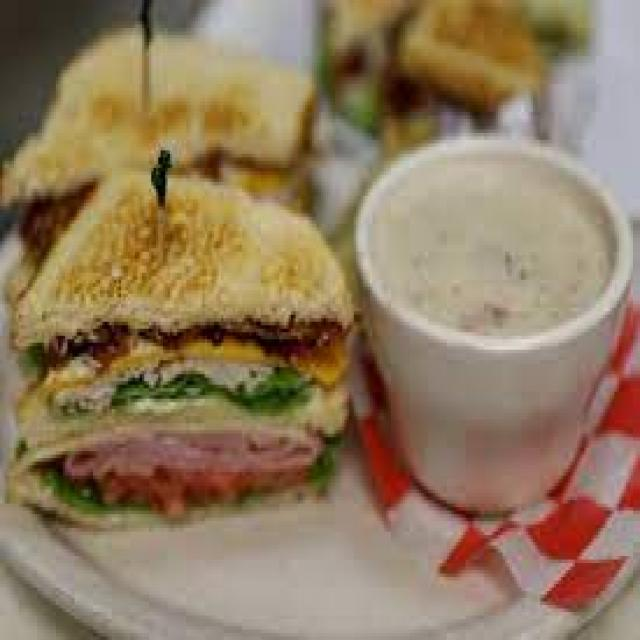Sandwich: (6, 0, 350, 542), (319, 4, 586, 130)
